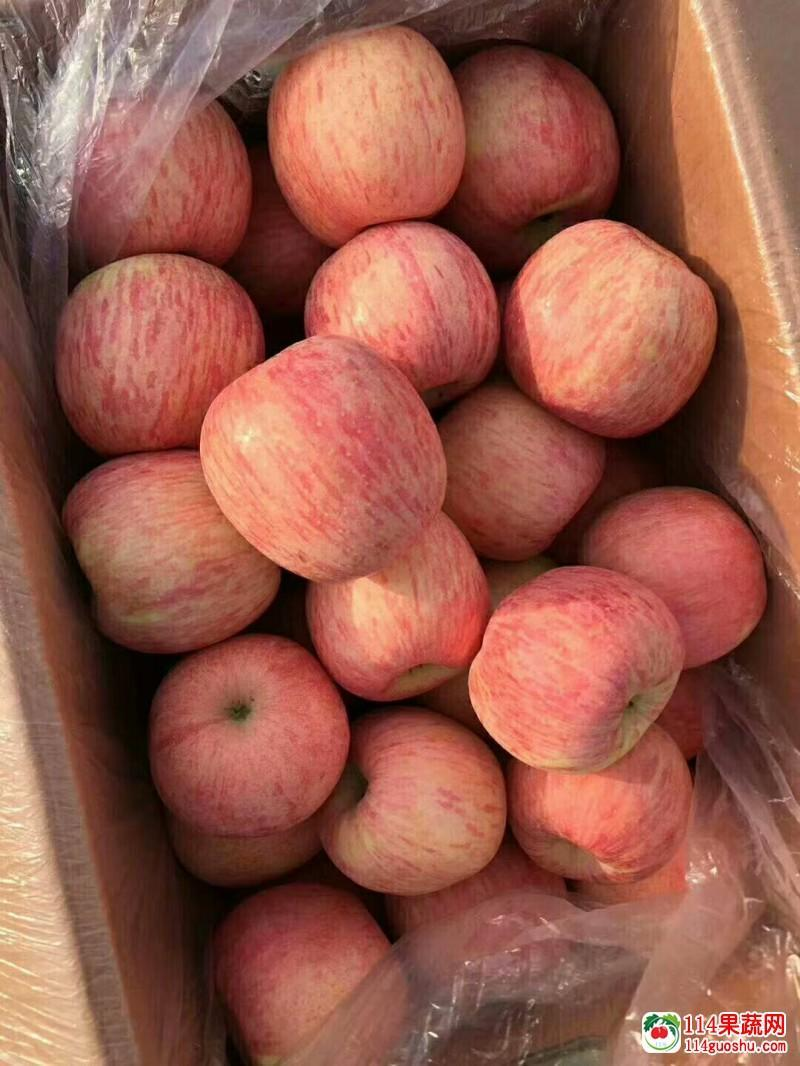apple: (11, 20, 796, 1057), (470, 562, 695, 774), (203, 880, 427, 1062), (567, 478, 765, 668)
